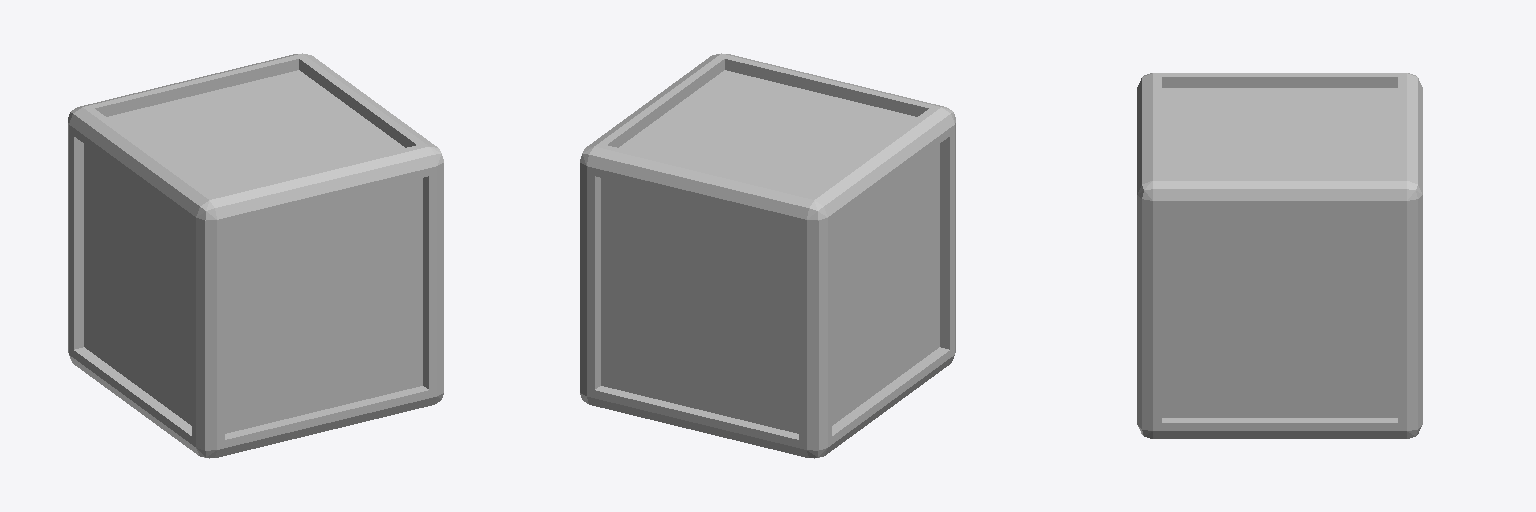
The model's file is supercube.obj.
3 views of the same model, side by side, from view 1: azimuth 30°, elevation 25°; view 2: azimuth 150°, elevation 25°; view 3: azimuth 270°, elevation 25° (orthographic).
Visible parts, largest first — view 1: Cube; view 2: Cube; view 3: Cube.
Boxes of the visible parts, x1,y1,x2,y2 form: Cube: [68, 53, 443, 458]; Cube: [580, 53, 955, 458]; Cube: [1137, 73, 1422, 438].
Bounding box in the file's own units: 2 × 2 × 2.